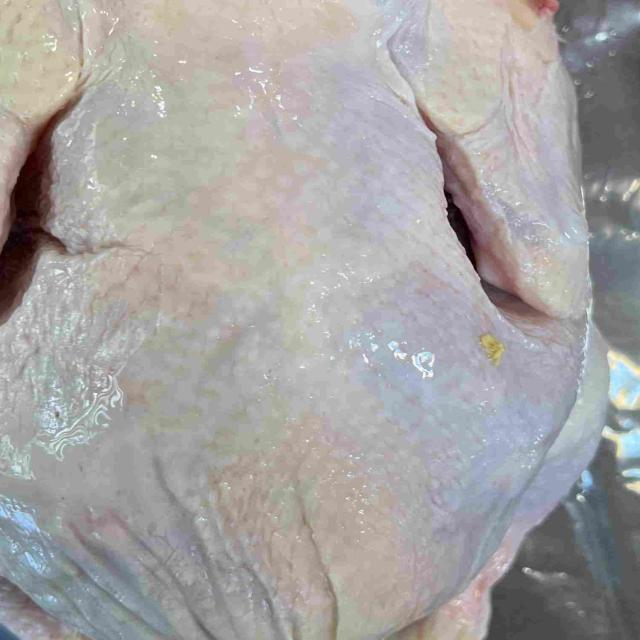back: (0, 14, 499, 640)
leg: (382, 330, 610, 640)
wing: (384, 0, 595, 317)
